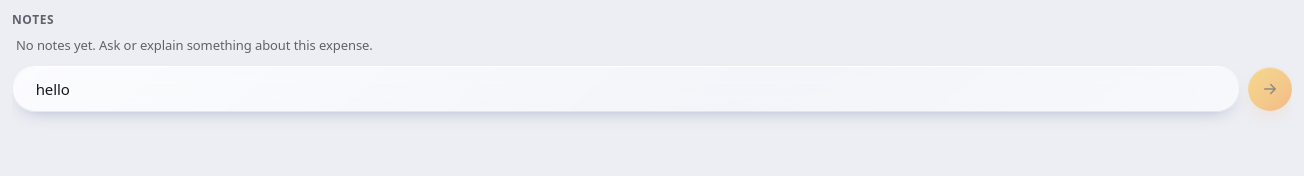
notes on an expense › sends the trimmed text, clears the box and reloads the list
Replace the text in the field named "Add a note" with "  hello  ": (626, 89) 12,66 -> 1240,112
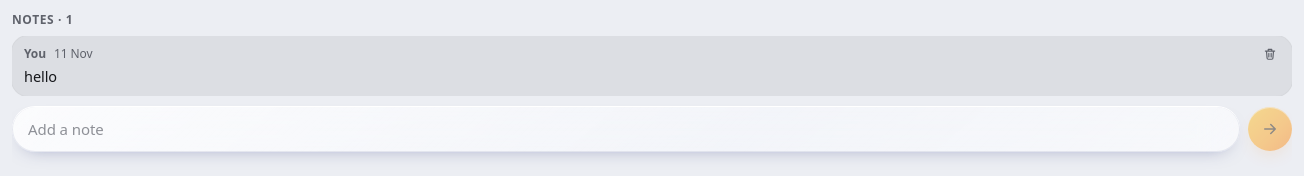
Check: the text "hello" is shown, box 24,66 -> 57,86
